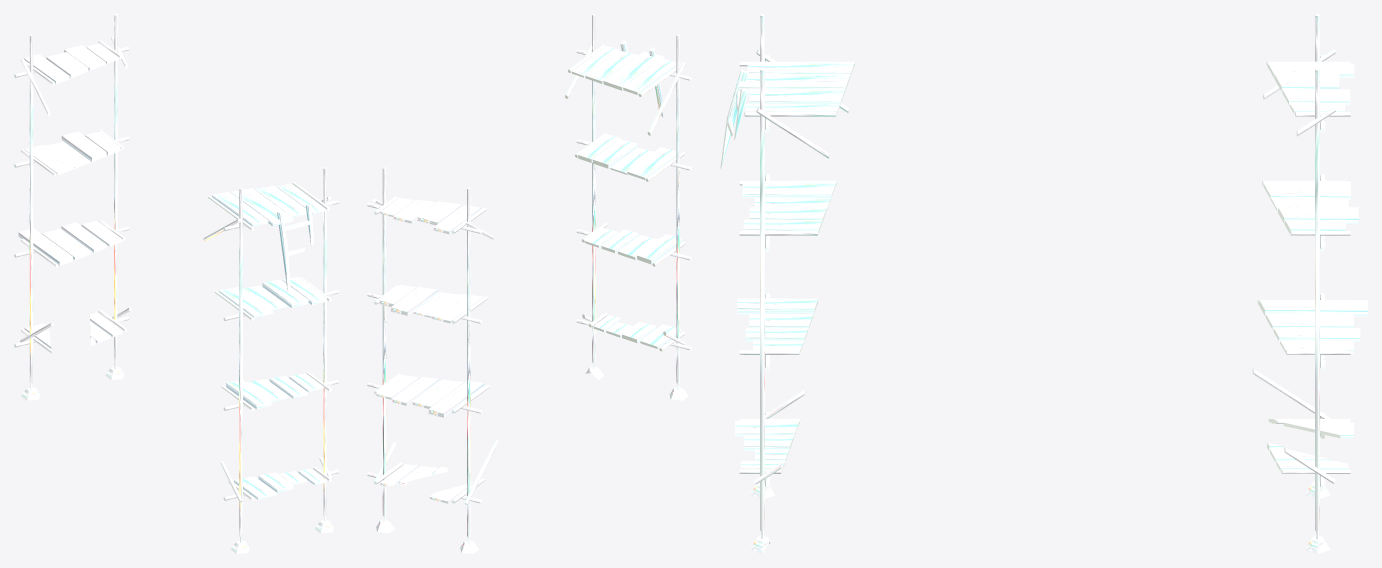
Rendered from SOSTENU.gltf.
The picture shows the model from 3 angles, left to right: view 1: azimuth 30°, elevation 25°; view 2: azimuth 150°, elevation 25°; view 3: azimuth 270°, elevation 25°; orthographic projection. The views are drawn at different scales.
Parts seen in each view (by area): view 1: CONSTU; view 2: CONSTU; view 3: CONSTU.
Part boxes in pixels (box(x1,y1,x2,y2)): CONSTU: box(14, 14, 338, 553); CONSTU: box(367, 14, 691, 553); CONSTU: box(720, 14, 1367, 553).
Bounding box in the file's own units: 11.87 × 36.17 × 44.34.
